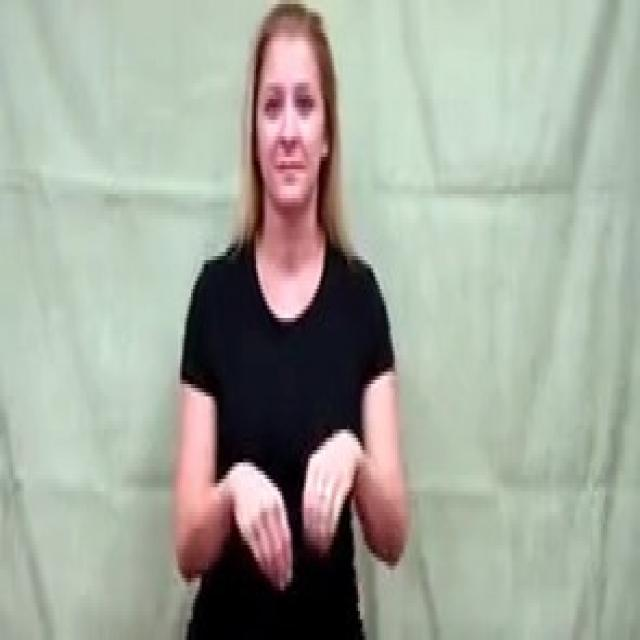ingredients: (228, 430, 372, 591)
